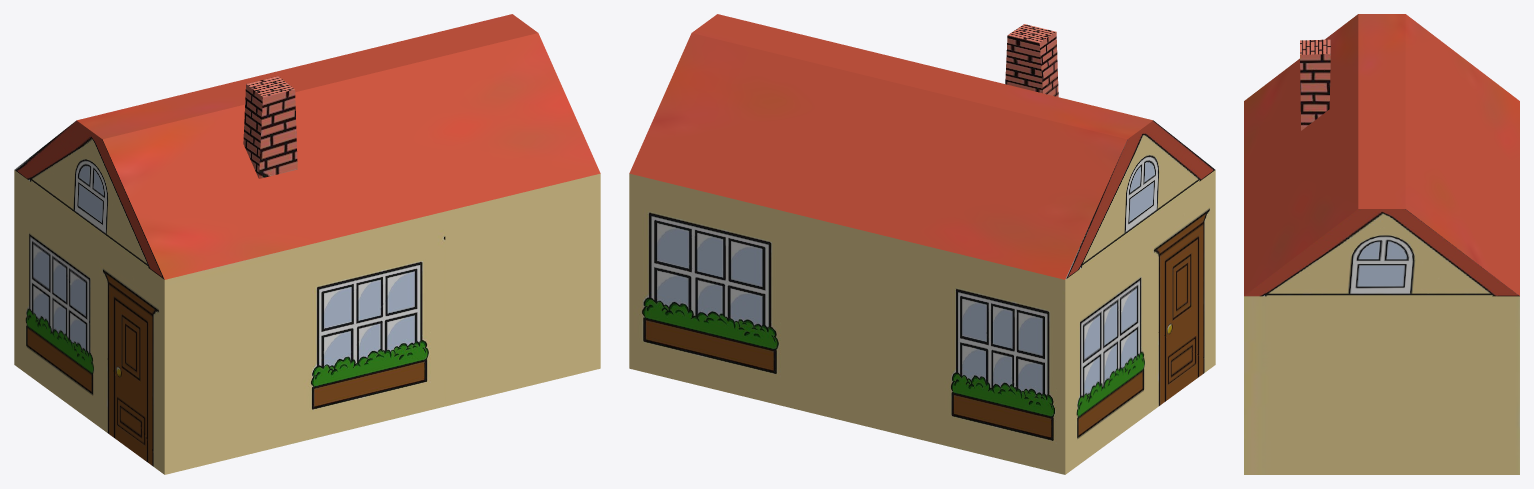
Rendered from house.glb.
3 views of the same model, side by side, from view 1: azimuth 30°, elevation 25°; view 2: azimuth 150°, elevation 25°; view 3: azimuth 270°, elevation 25° (orthographic). The views are drawn at different scales.
Parts seen in each view (by area): view 1: Cube; view 2: Cube; view 3: Cube.
Part boxes in pixels (left/top/right/bottom): Cube: left=14, top=14, right=600, bottom=474; Cube: left=629, top=14, right=1215, bottom=474; Cube: left=1244, top=14, right=1519, bottom=474.
Size of the model in its own units: 5.21 by 3.71 by 3.12.
1 material, 1 textured.
